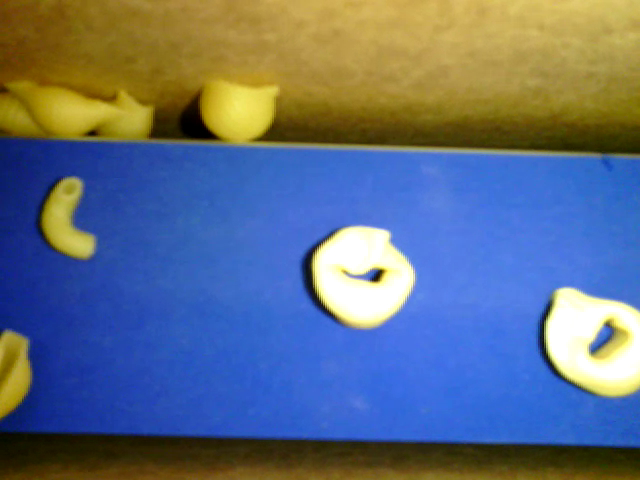elbow: (39, 173, 96, 261)
shell: (1, 76, 127, 137), (196, 74, 278, 139), (92, 89, 156, 141), (1, 328, 30, 419), (1, 92, 54, 137)
tortellini: (311, 225, 414, 330), (542, 286, 639, 397)
